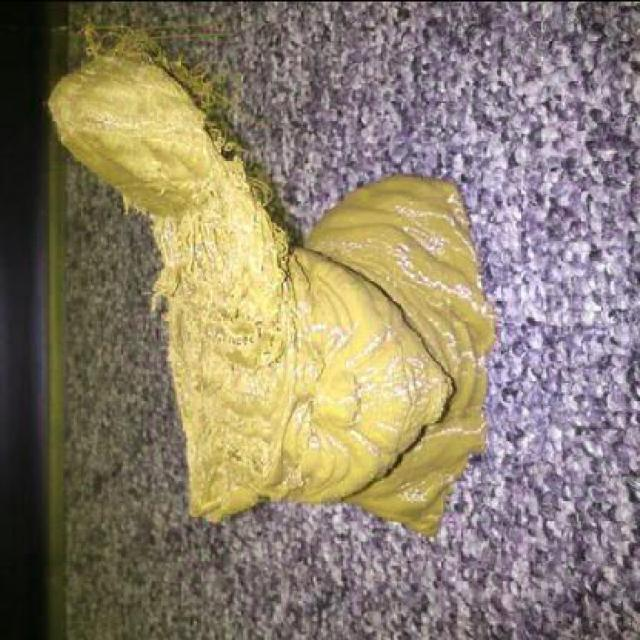Spaghetti: (47, 15, 288, 517)
